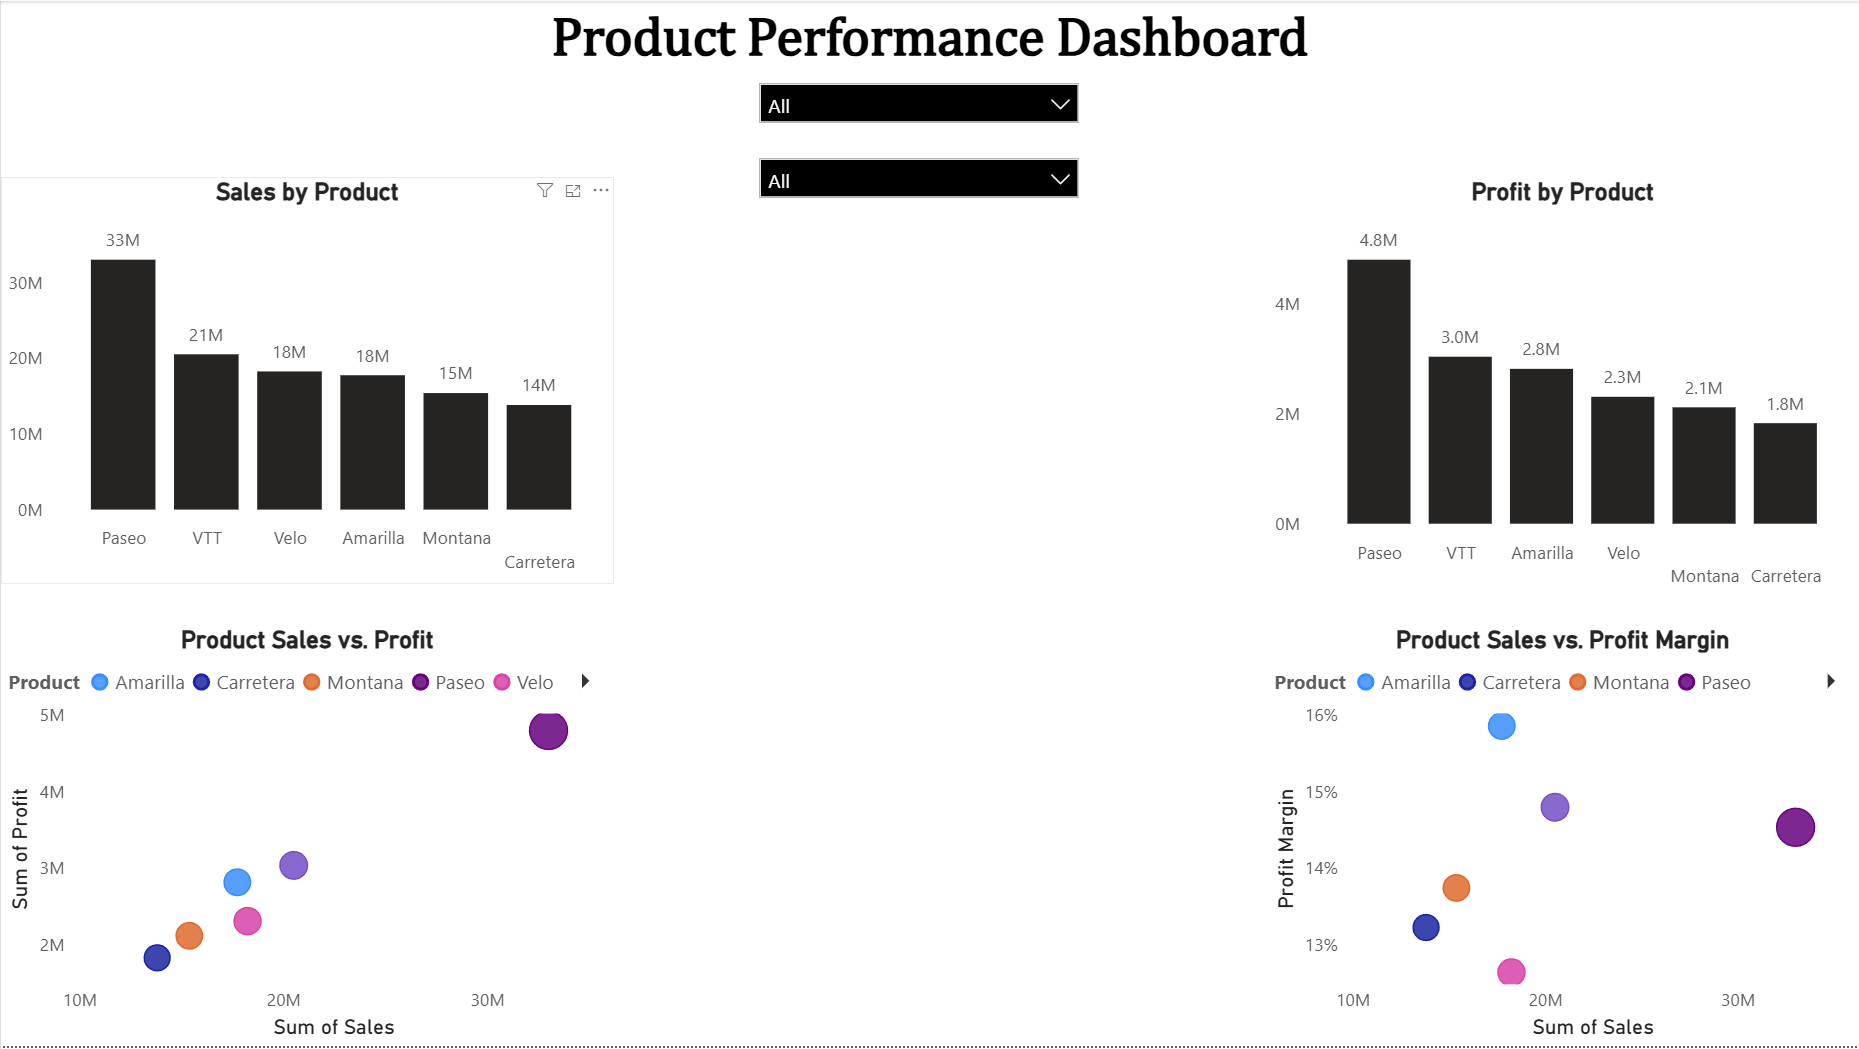

The page's visual inventory and layout, read from the dashboard file:
{"tool":"powerbi","page":{"name":"Product Performance","canvas":[1280,720],"ordinal":1},"visuals":[{"type":"columnChart","title":"Sales by Product","fields":{"Category":["financial_db financialdata.Product"],"Y":["Sum(financial_db financialdata.Sales)"]},"box":[0,121.6,422.1,280.1],"z":0},{"type":"textbox","box":[363.8,0,552.5,72.9],"z":1000},{"type":"columnChart","title":"Profit by Product","fields":{"Category":["financial_db financialdata.Product"],"Y":["Sum(financial_db financialdata.Profit)"]},"box":[872.5,121.6,407.5,289.8],"z":2000},{"type":"scatterChart","title":"Product Sales vs. Profit","fields":{"X":["Sum(financial_db financialdata.Sales)"],"Y":["Sum(financial_db financialdata.Profit)"],"Size":["Sum(financial_db financialdata.Units_Sold)"],"Series":["financial_db financialdata.Product"]},"box":[0,429.9,422.1,289.8],"z":3000},{"type":"scatterChart","title":"Product Sales vs. Profit Margin","fields":{"X":["Sum(financial_db financialdata.Sales)"],"Size":["Sum(financial_db financialdata.Units_Sold)"],"Y":["financial_db financialdata.Profit Margin"],"Series":["financial_db financialdata.Product"]},"box":[872.5,429.9,407.5,289.8],"z":4000},{"type":"slicer","fields":{"Values":["financial_db financialdata.Segment"]},"box":[512.6,46.7,240.2,51.6],"z":5000},{"type":"slicer","fields":{"Values":["financial_db financialdata.Country"]},"box":[512.6,98.2,240.2,51.6],"z":6000}]}

Visuals, with their boxes in screenshot pixels (x1, y1, x2, y2), scaled from the page's 1280x720 canvas onto the 1859x1049 screenshot:
"Sales by Product" columnChart: rect(0, 177, 613, 585)
textbox: rect(528, 0, 1331, 106)
"Profit by Product" columnChart: rect(1267, 177, 1858, 599)
"Product Sales vs. Profit" scatterChart: rect(0, 626, 613, 1048)
"Product Sales vs. Profit Margin" scatterChart: rect(1267, 626, 1858, 1048)
slicer - financial_db financialdata.Segment: rect(744, 68, 1093, 143)
slicer - financial_db financialdata.Country: rect(744, 143, 1093, 218)
